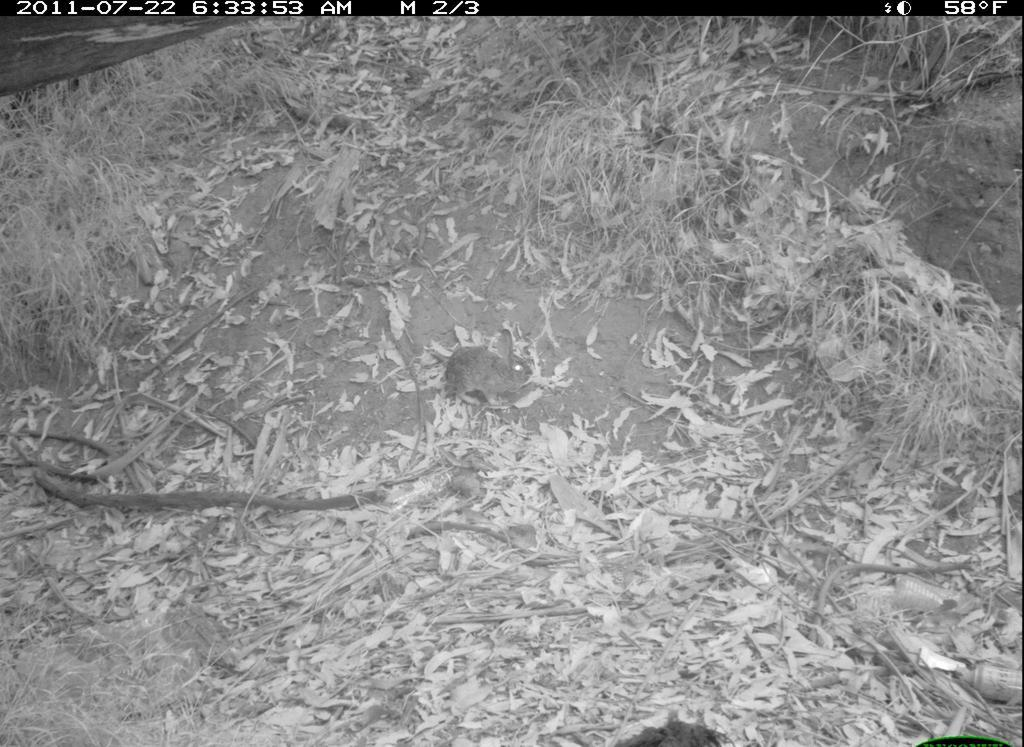rabbit: (441, 327, 537, 415)
